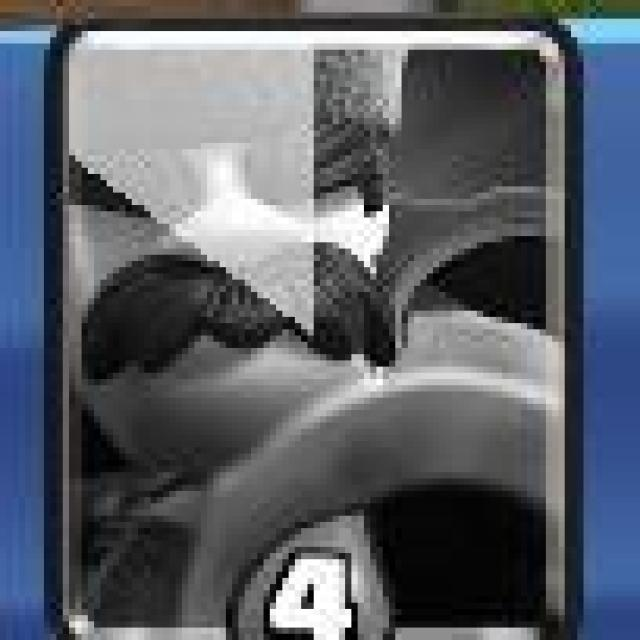Hunter: (44, 17, 578, 640)
